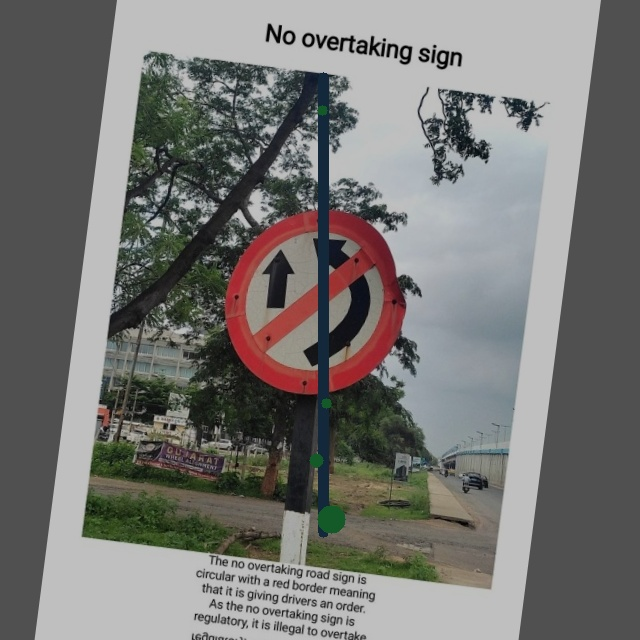Overtaking_Prohibited: (219, 196, 415, 407)
